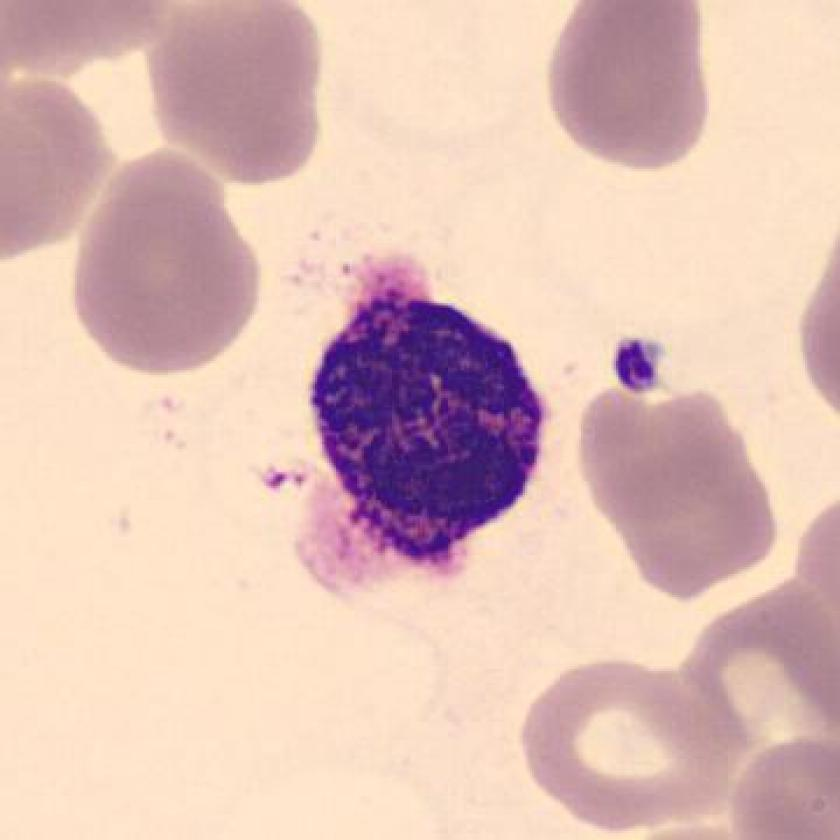basophil: (297, 272, 566, 584)
